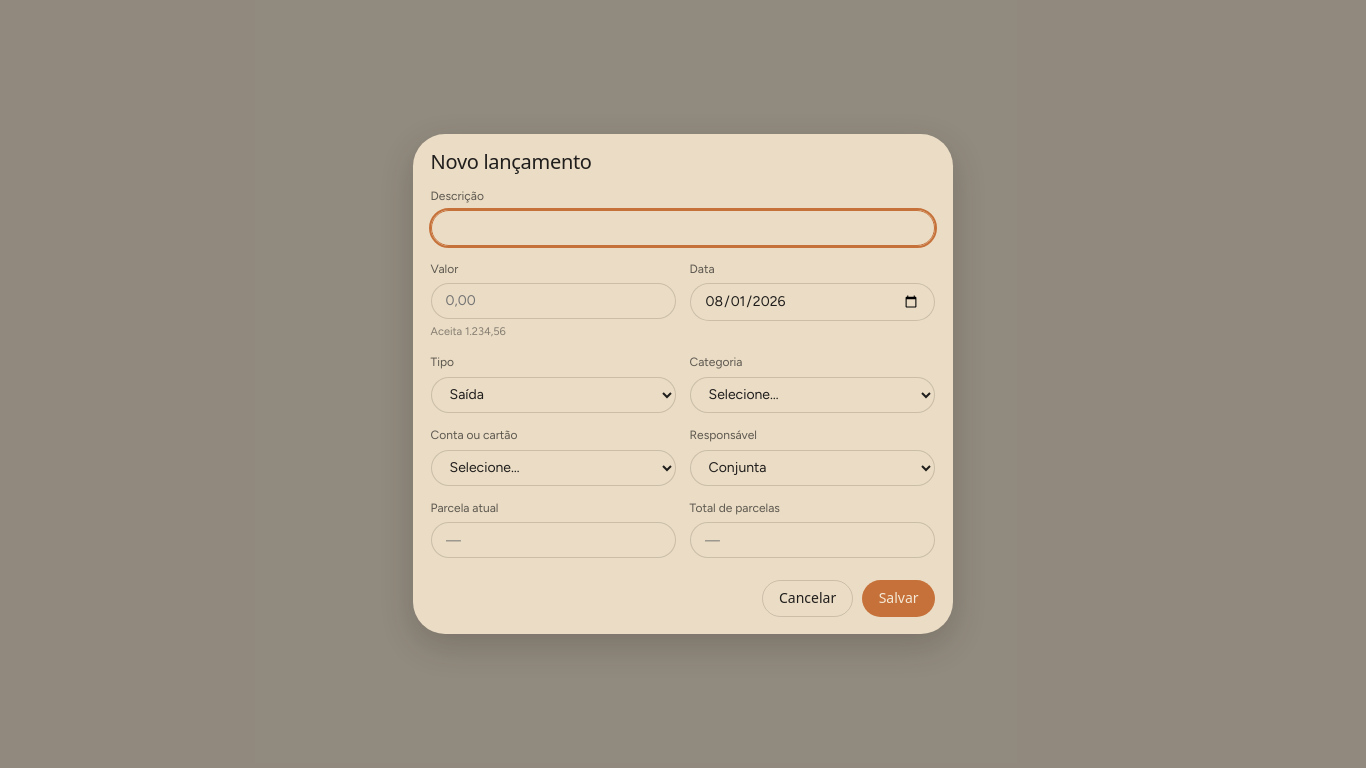
validação antes de enviar › não envia nada quando os campos obrigatórios estão vazios
Click the button "Salvar" at coordinates (899, 599), box [862,580,935,617]
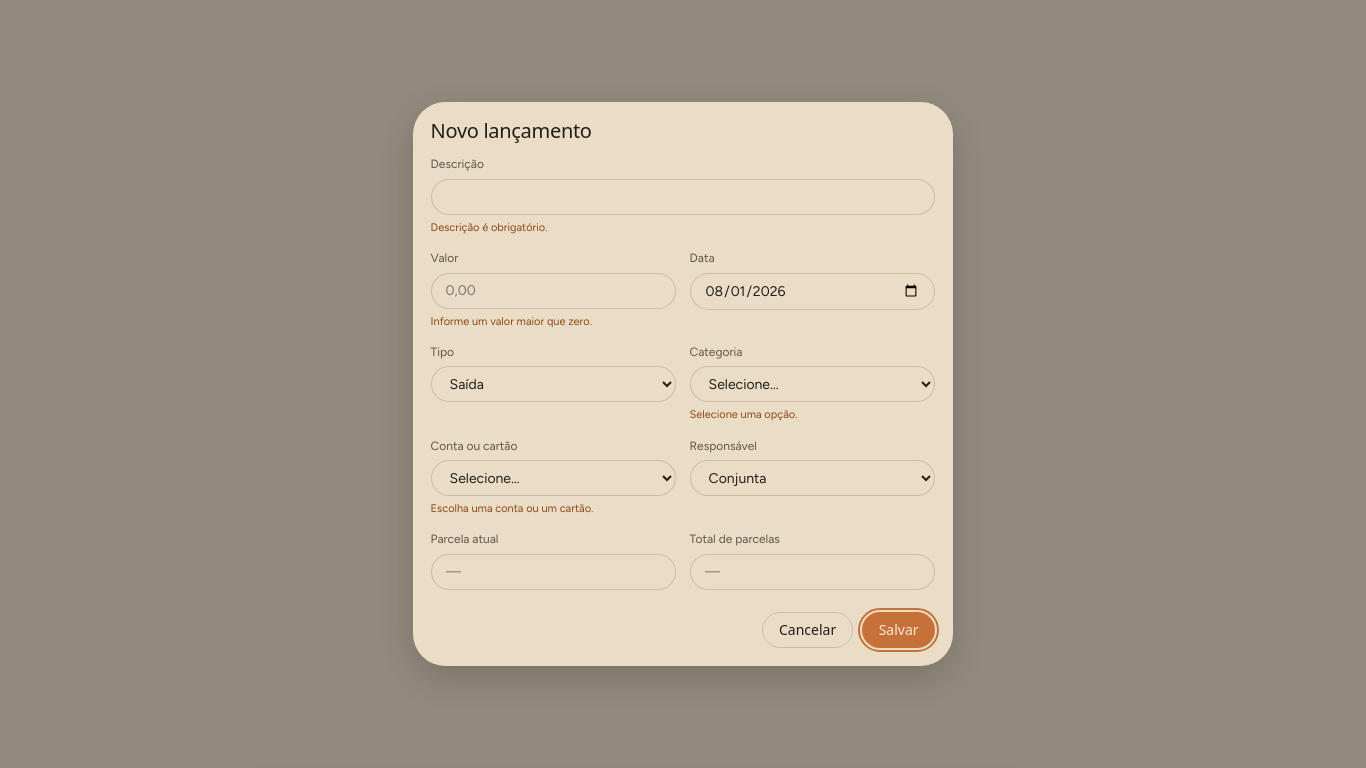
Expected: the message "Descrição é obrigatório." is shown, [431,221,548,234]
